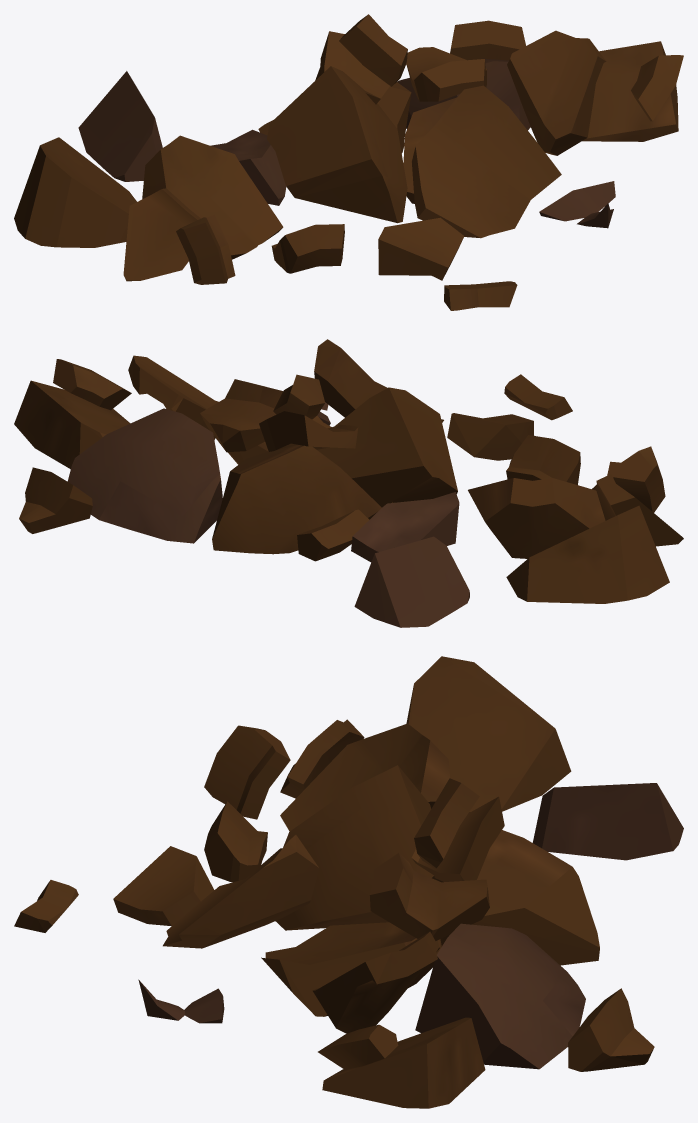
The model's file is prop_vase_broken.glb.
The picture shows the model from 3 angles, top to bottom: view 1: azimuth 30°, elevation 25°; view 2: azimuth 150°, elevation 25°; view 3: azimuth 270°, elevation 25°; orthographic projection. The views are drawn at different scales.
Parts seen in each view (by area): view 1: Vase_Rubble_Medium; view 2: Vase_Rubble_Medium; view 3: Vase_Rubble_Medium.
Boxes of the visible parts, x1=… form: Vase_Rubble_Medium: x1=14, y1=14, x2=683, y2=310; Vase_Rubble_Medium: x1=14, y1=339, x2=683, y2=627; Vase_Rubble_Medium: x1=14, y1=656, x2=683, y2=1108.
Bounding box in the file's own units: 0.7969 × 0.1746 × 0.5984.
Materials: 1 (1 with a texture image).
